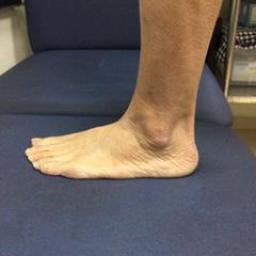Lateral View -Left Foot-: (21, 84, 207, 185)
